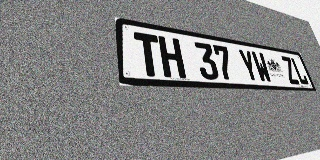3: (194, 42, 220, 80)
7: (211, 44, 236, 81)
H: (158, 36, 186, 78)
L: (290, 57, 309, 85)
T: (133, 32, 163, 77)
W: (251, 51, 273, 83)
Y: (237, 49, 260, 82)
Z: (280, 56, 300, 84)
